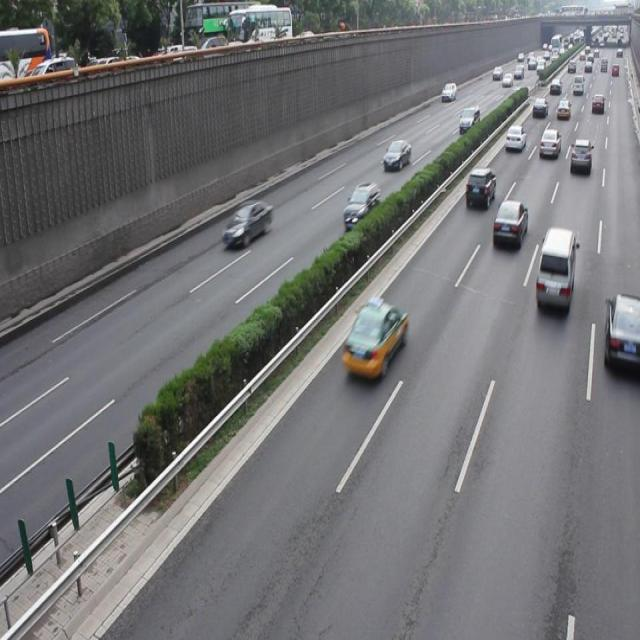car: (341, 298, 406, 380), (602, 292, 640, 375), (221, 198, 273, 250), (491, 198, 526, 251), (342, 180, 379, 230), (463, 165, 495, 208), (382, 138, 410, 170), (568, 137, 590, 174)
truck: (534, 226, 574, 307)
